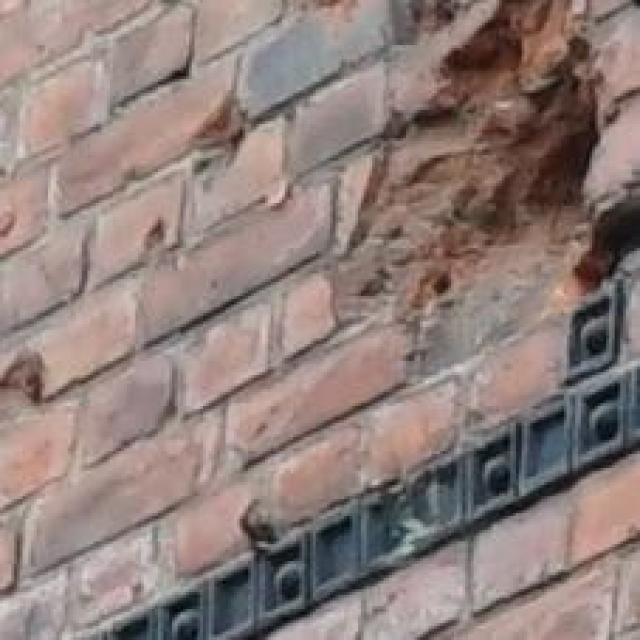Crack: (268, 0, 640, 443)
